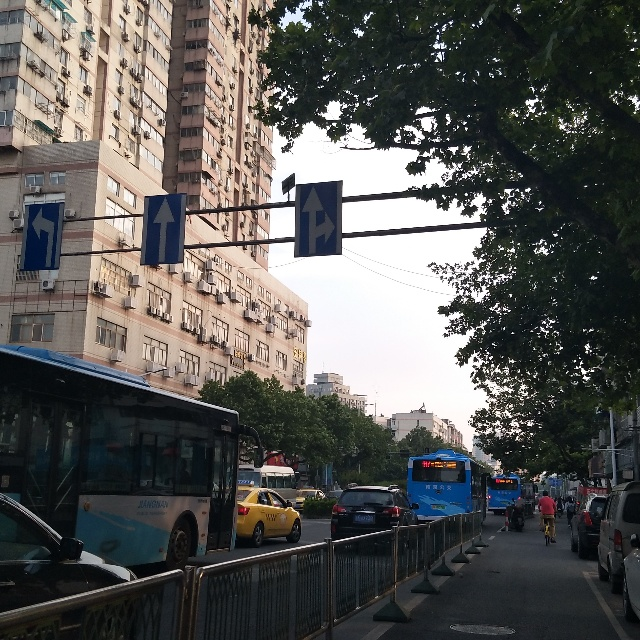left: (24, 202, 58, 265)
straight: (145, 193, 183, 265)
